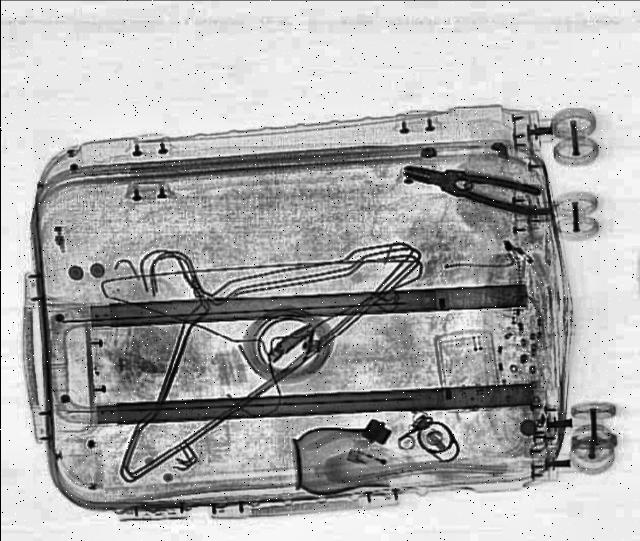Pliers: (396, 154, 556, 218)
